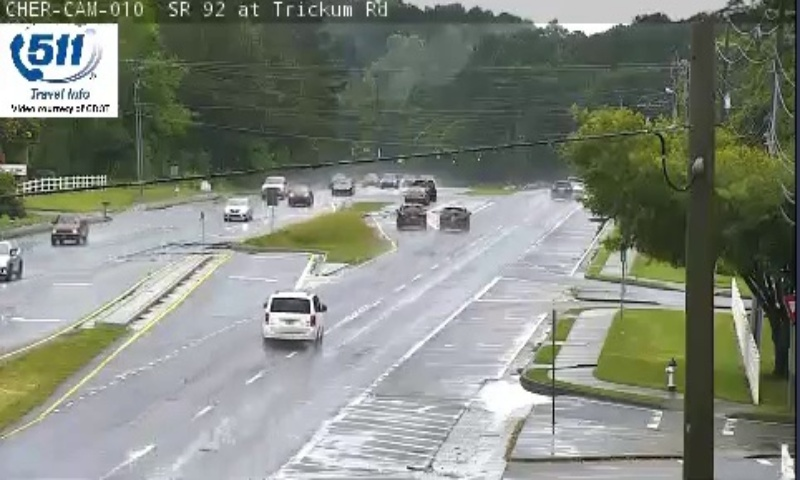car: (263, 292, 323, 339), (396, 203, 426, 229), (438, 205, 469, 230)
